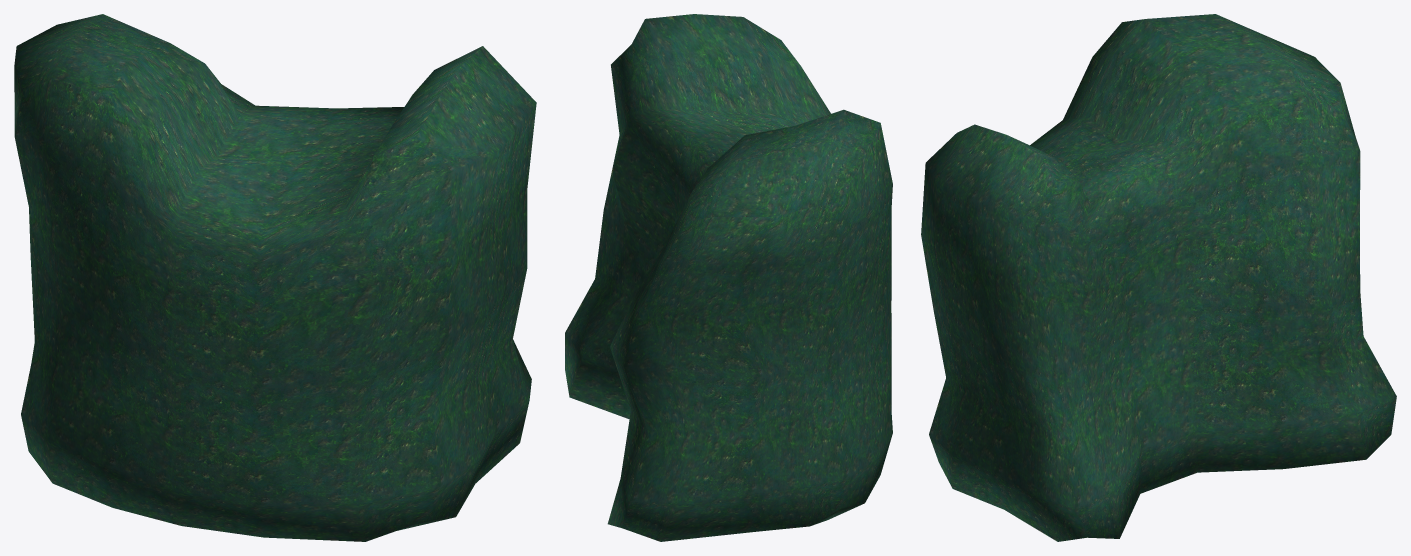
Rendered from MIRKWOOD_BOX01.fbx.
3 views of the same model, side by side, from view 1: azimuth 30°, elevation 25°; view 2: azimuth 150°, elevation 25°; view 3: azimuth 270°, elevation 25° (orthographic). The views are drawn at different scales.
Parts seen in each view (by area): view 1: MIRKWOOD_BOX01; view 2: MIRKWOOD_BOX01; view 3: MIRKWOOD_BOX01.
Part boxes in pixels (x1,y1,x2,y2): MIRKWOOD_BOX01: (14,14,536,541); MIRKWOOD_BOX01: (565,14,892,541); MIRKWOOD_BOX01: (921,14,1396,541).
Bounding box in the file's own units: 140757 × 141106 × 155549.
Materials: 1 (1 with a texture image).
